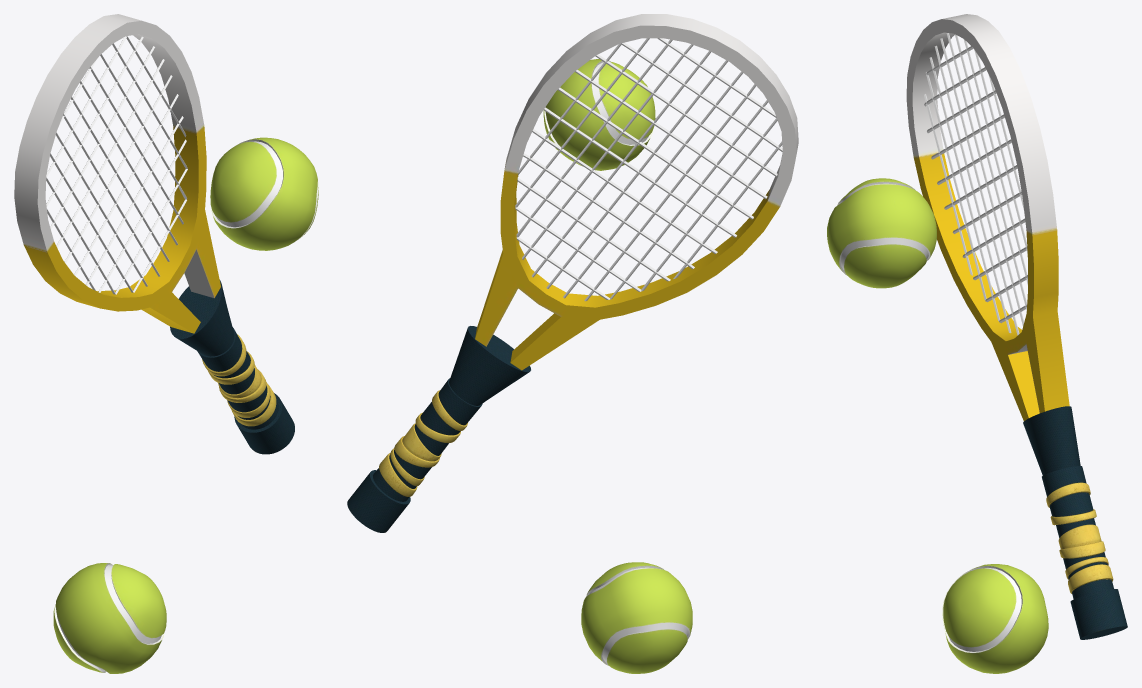
File: racket.glb
3 renders of one model, left to right at view 1: azimuth 30°, elevation 25°; view 2: azimuth 150°, elevation 25°; view 3: azimuth 270°, elevation 25°, orthographic. The views are drawn at different scales.
Parts seen in each view (by area): view 1: defaultMaterial.003, defaultMaterial, defaultMaterial.001, defaultMaterial.002; view 2: defaultMaterial.003, defaultMaterial, defaultMaterial.001, defaultMaterial.002; view 3: defaultMaterial.003, defaultMaterial, defaultMaterial.002, defaultMaterial.001.
Boxes of the visible parts, <box> form: defaultMaterial.003: <box>14,14,220,333</box>; defaultMaterial: <box>53,137,318,673</box>; defaultMaterial.001: <box>46,36,187,294</box>; defaultMaterial.002: <box>170,280,294,454</box>; defaultMaterial.003: <box>475,14,798,370</box>; defaultMaterial: <box>543,59,692,673</box>; defaultMaterial.001: <box>515,38,782,301</box>; defaultMaterial.002: <box>347,326,530,532</box>; defaultMaterial.003: <box>906,14,1069,420</box>; defaultMaterial: <box>827,178,1048,673</box>; defaultMaterial.002: <box>1023,406,1127,639</box>; defaultMaterial.001: <box>924,33,1027,335</box>.
Size of the model in its own units: 0.3633 by 0.6229 by 0.2669.
4 materials, 3 textured.
